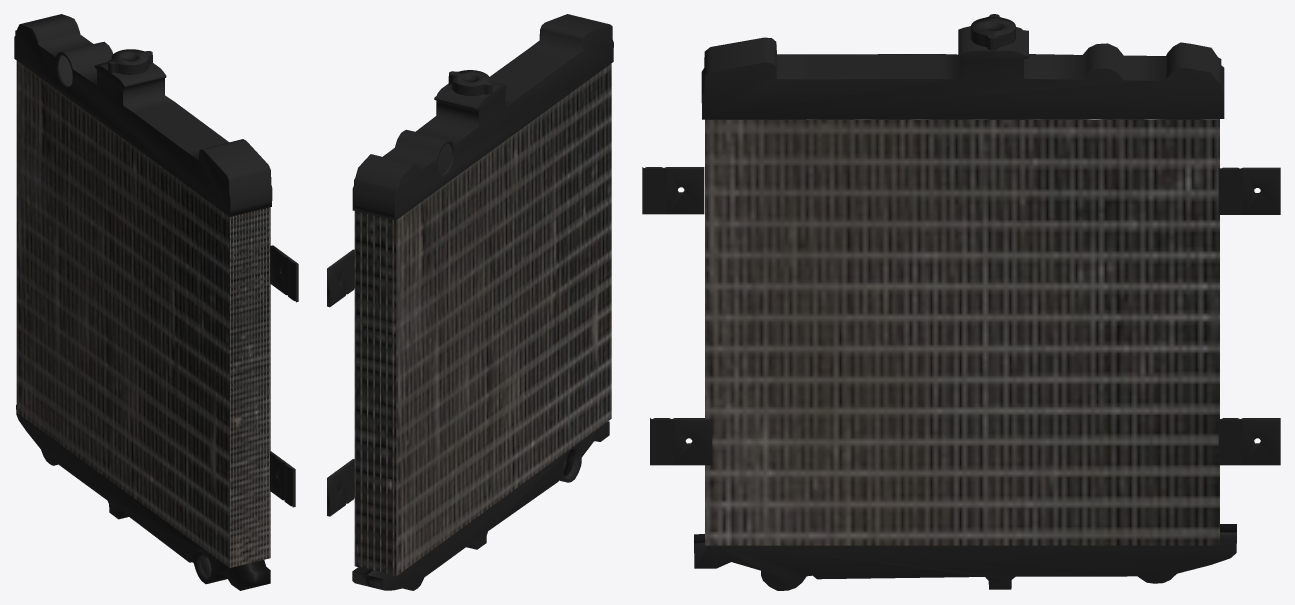
3 renders of one model, left to right at view 1: azimuth 30°, elevation 25°; view 2: azimuth 150°, elevation 25°; view 3: azimuth 270°, elevation 25°, orthographic. The views are drawn at different scales.
Visible parts, largest first — view 1: reservatorio geral; view 2: reservatorio geral; view 3: reservatorio geral.
Part boxes in pixels (x1,y1,x2,y2): reservatorio geral: (14,14,298,590); reservatorio geral: (327,14,613,590); reservatorio geral: (642,14,1280,590).
Size of the model in its own units: 0.3506 by 3.42 by 3.57.
2 materials, 1 textured.
